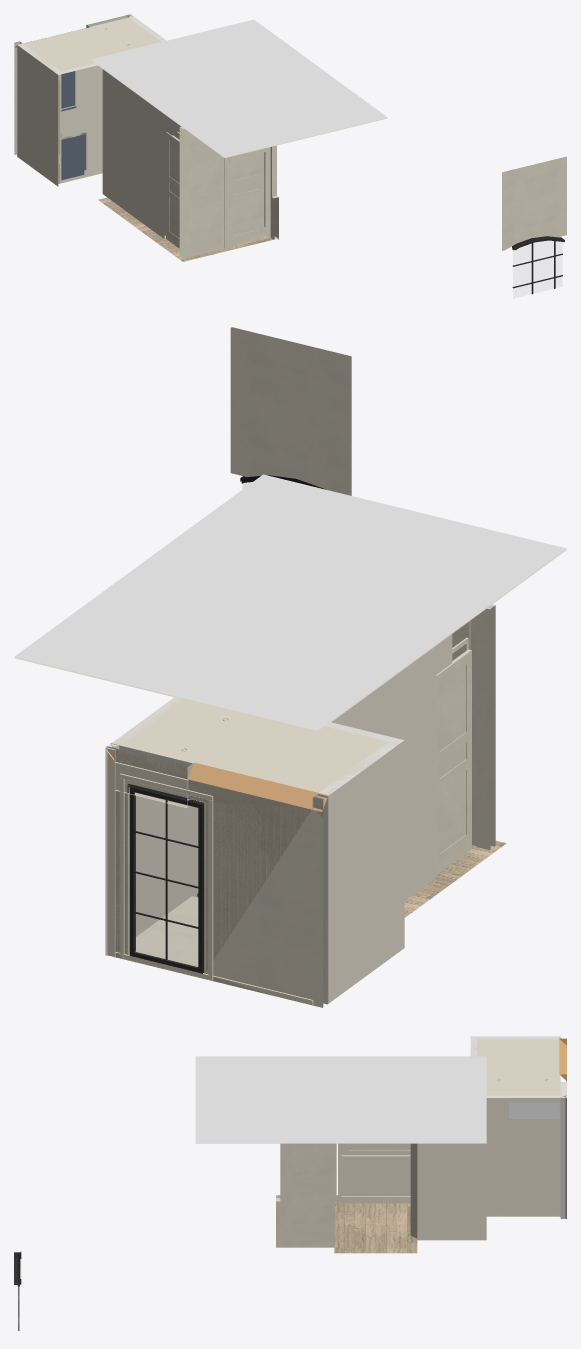
File: laundry-05260b985da0.glb
3 views of the same model, one above another, from view 1: azimuth 30°, elevation 25°; view 2: azimuth 150°, elevation 25°; view 3: azimuth 270°, elevation 25° (orthographic). The views are drawn at different scales.
Visible parts, largest first — view 1: laundry-look-9d91b47435c6fb33, laundry-look-64efeecf845bccca, laundry-look-eb02897c2e79e2b1, laundry-look-34525a54e63b733b, laundry-4fe5579be934d30a, laundry-9d91b47435c6fb33, laundry-8d8280a2b3ef8b4c, laundry-look-dcc0092055abeaa8, laundry-look-8d5f500af8e4c699, laundry-look-b50904fb6ee0544e, laundry-look-2575515a05775d9e, laundry-3d7dc14daaac73cc (+3 smaller); view 2: laundry-look-9d91b47435c6fb33, laundry-bd62734a7bc60eb7, laundry-look-34525a54e63b733b, laundry-4fe5579be934d30a, laundry-ca9c0b57f88e5741, laundry-9d91b47435c6fb33, laundry-09f90213aa0a4493, laundry-look-64efeecf845bccca, laundry-7f59123d155b94ce, laundry-look-b50904fb6ee0544e, laundry-look-eb02897c2e79e2b1, laundry-9373e00609a5f856 (+5 smaller); view 3: laundry-look-9d91b47435c6fb33, laundry-7f59123d155b94ce, laundry-look-7f59123d155b94ce, laundry-look-746250f96522f643, laundry-9d91b47435c6fb33, laundry-look-2575515a05775d9e, laundry-look-64efeecf845bccca, laundry-6cbc44f63f815149, laundry-9a6873bb27e0e1d8, laundry-look-1a48be0d0ff2f96f.
Boxes of the visible parts, x1,y1,x2,y2 form: laundry-look-9d91b47435c6fb33: (91,19,387,158); laundry-look-64efeecf845bccca: (102,69,177,238); laundry-look-eb02897c2e79e2b1: (179,126,270,258); laundry-look-34525a54e63b733b: (502,156,566,250); laundry-4fe5579be934d30a: (17,43,60,184); laundry-9d91b47435c6fb33: (19,16,164,74); laundry-8d8280a2b3ef8b4c: (55,63,102,186); laundry-look-dcc0092055abeaa8: (229,148,264,246); laundry-look-8d5f500af8e4c699: (512,236,564,298); laundry-look-b50904fb6ee0544e: (166,132,179,248); laundry-look-2575515a05775d9e: (98,197,278,261); laundry-3d7dc14daaac73cc: (61,134,86,180); laundry-look-9d91b47435c6fb33: (14,474,566,730); laundry-bd62734a7bc60eb7: (106,747,322,1007); laundry-look-34525a54e63b733b: (230,327,351,495); laundry-4fe5579be934d30a: (317,742,398,1003); laundry-ca9c0b57f88e5741: (107,747,323,1007); laundry-9d91b47435c6fb33: (111,696,404,795); laundry-09f90213aa0a4493: (127,784,204,973); laundry-look-64efeecf845bccca: (332,634,452,900); laundry-7f59123d155b94ce: (105,696,197,955); laundry-look-b50904fb6ee0544e: (436,649,471,874); laundry-look-eb02897c2e79e2b1: (452,604,495,849); laundry-9373e00609a5f856: (119,773,213,980); laundry-look-9d91b47435c6fb33: (195,1056,486,1143); laundry-7f59123d155b94ce: (486,1095,566,1218); laundry-look-7f59123d155b94ce: (410,1143,486,1240); laundry-look-746250f96522f643: (276,1143,335,1245); laundry-9d91b47435c6fb33: (470,1036,560,1095); laundry-look-2575515a05775d9e: (276,1195,417,1253); laundry-look-64efeecf845bccca: (340,1143,410,1202); laundry-6cbc44f63f815149: (509,1082,566,1118); laundry-9a6873bb27e0e1d8: (560,1098,565,1218); laundry-look-1a48be0d0ff2f96f: (341,1196,410,1203).
Bounding box in the file's own units: 7.03 × 2.95 × 10.33.
Materials: 30 (4 with a texture image).
